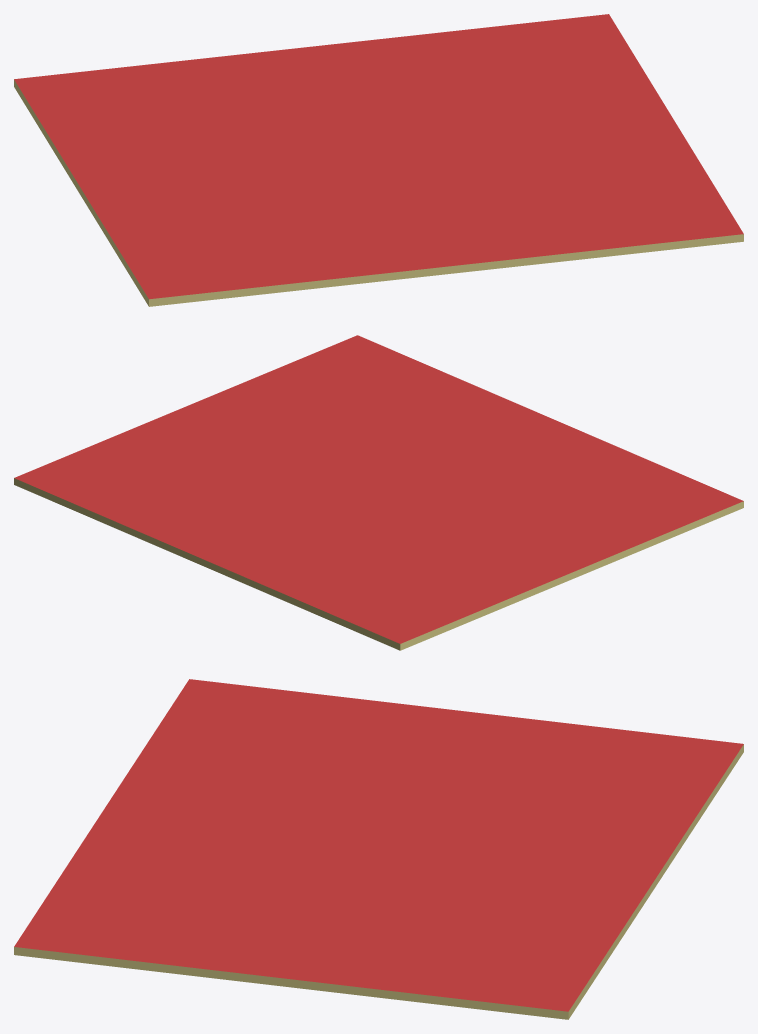
3 renders of one model, top to bottom at view 1: azimuth 30°, elevation 25°; view 2: azimuth 150°, elevation 25°; view 3: azimuth 270°, elevation 25°, orthographic. The views are drawn at different scales.
Visible parts, largest first — view 1: group_3, group_4; view 2: group_3, group_4; view 3: group_3, group_4.
Part boxes in pixels (x1,y1,x2,y2): group_3: [14, 14, 743, 299]; group_4: [14, 79, 743, 306]; group_3: [14, 335, 743, 643]; group_4: [14, 478, 743, 650]; group_3: [14, 679, 743, 1011]; group_4: [14, 744, 743, 1019].
Size of the model in its own units: 8.75 by 8.12 by 0.1.
